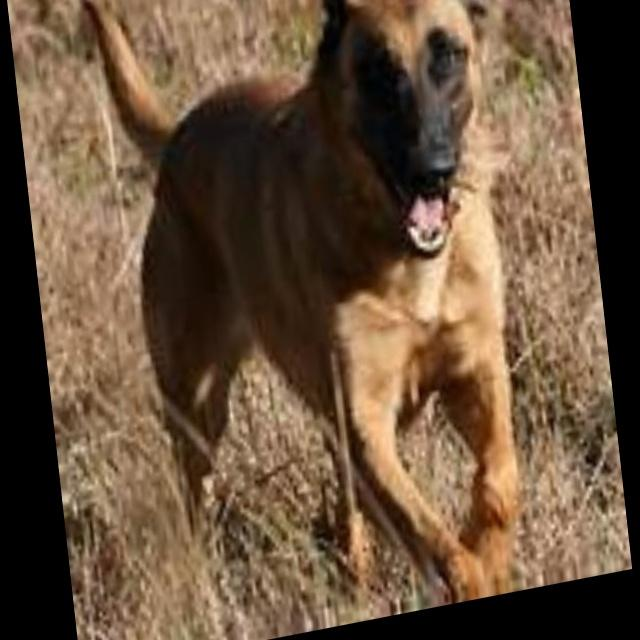dog: (59, 0, 562, 640)
